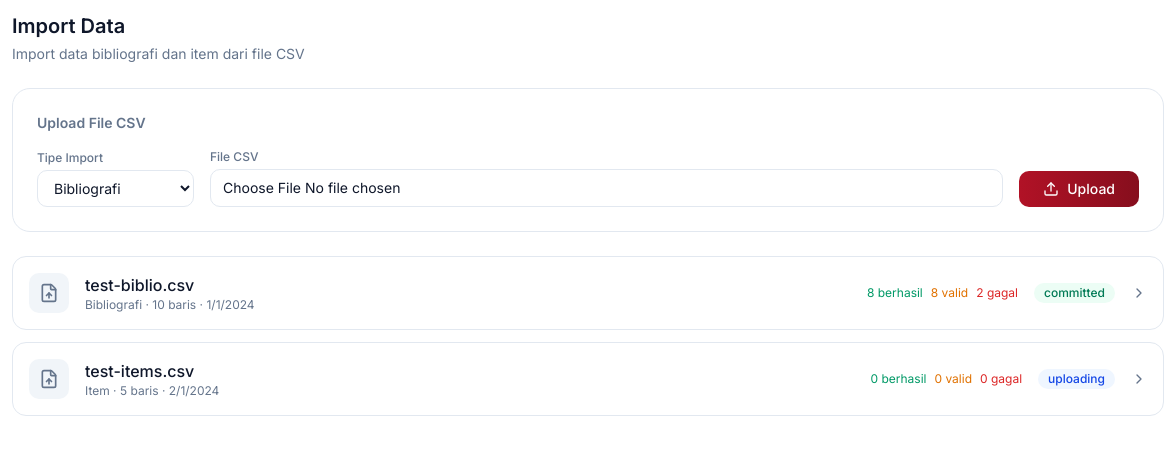
Test case: ImportSection › should open batch detail on click
Click the text "test-biblio.csv" at (140, 285), box [85, 275, 194, 295]
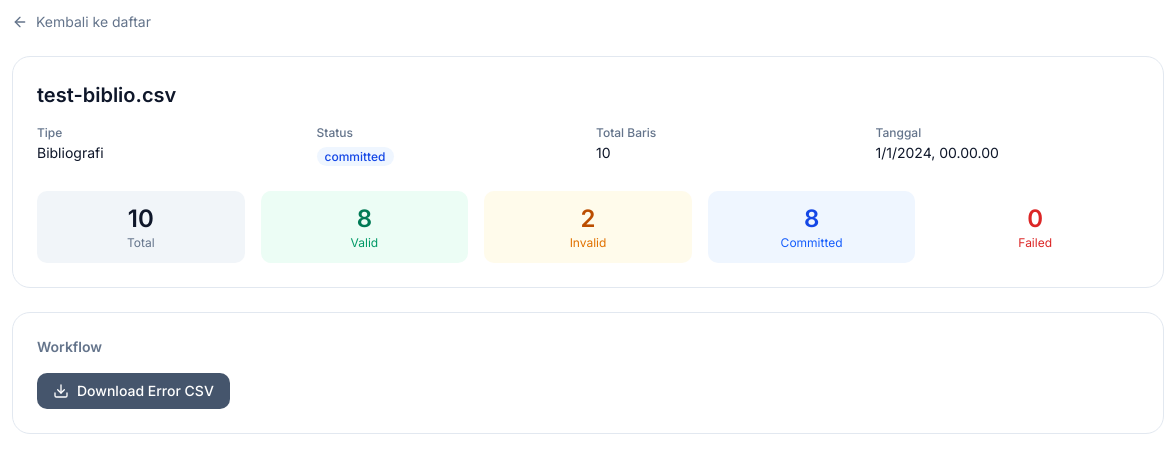
Expected: the button "Kembali ke daftar" is shown, [12, 12, 151, 32]
